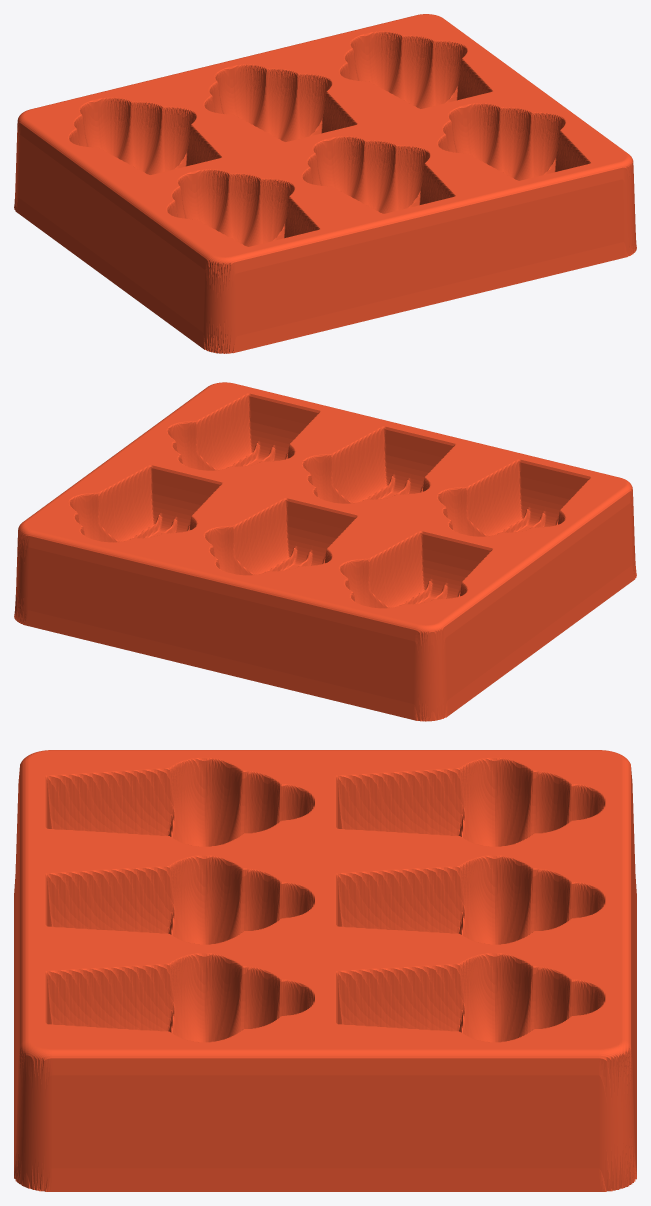
File: mold.glb
3 renders of one model, top to bottom at view 1: azimuth 30°, elevation 25°; view 2: azimuth 150°, elevation 25°; view 3: azimuth 270°, elevation 25°, orthographic. The views are drawn at different scales.
Visible parts, largest first — view 1: geometry_0; view 2: geometry_0; view 3: geometry_0.
Boxes of the visible parts, left/top/right/bottom form: geometry_0: left=14, top=14, right=636, bottom=353; geometry_0: left=14, top=382, right=636, bottom=721; geometry_0: left=14, top=750, right=636, bottom=1191.
Size of the model in its own units: 0.1763 by 0.036 by 0.1492.
